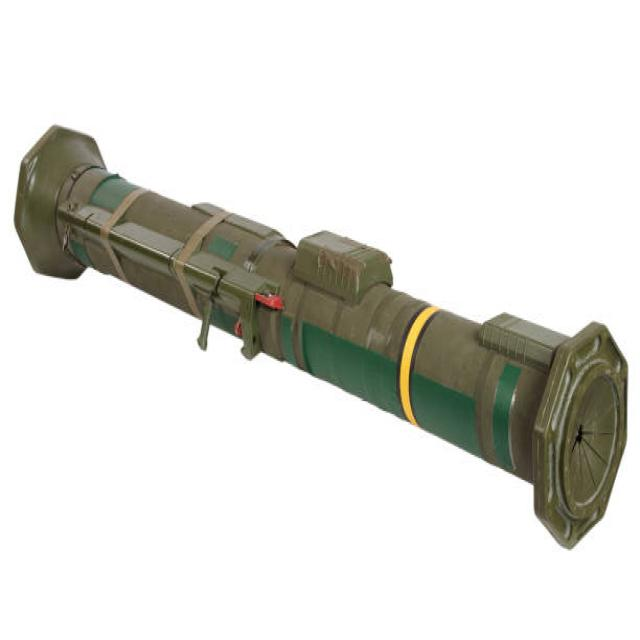bazooka: (9, 114, 635, 554)
